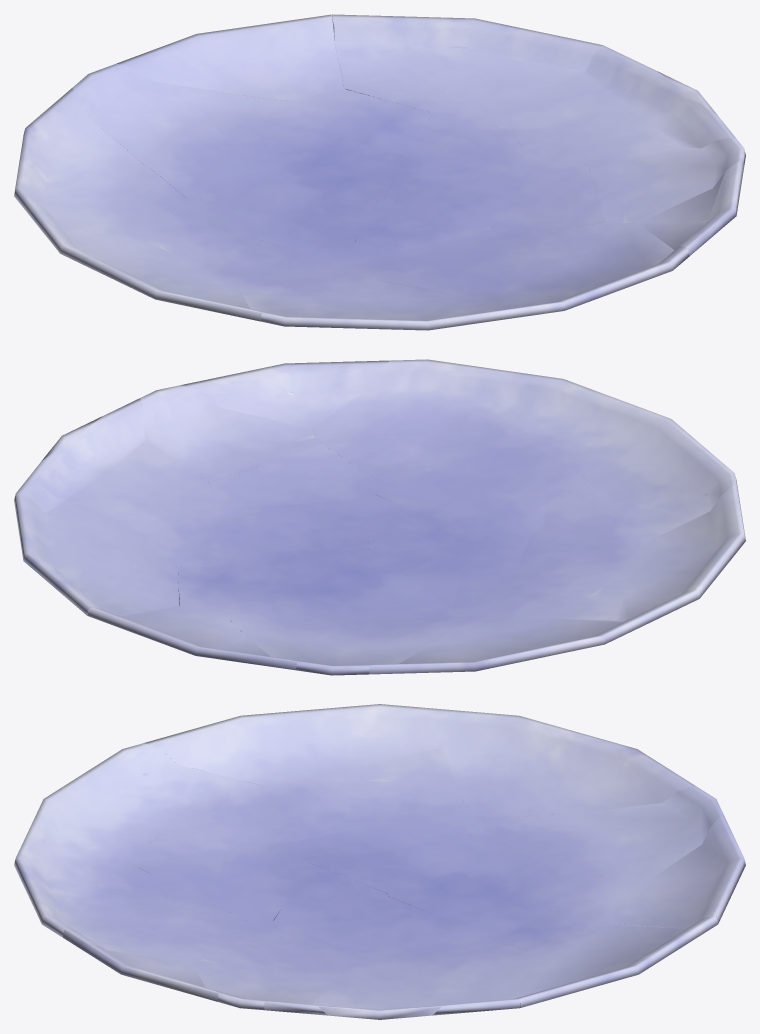
Rendered from plate.fbx.
The picture shows the model from 3 angles, top to bottom: view 1: azimuth 30°, elevation 25°; view 2: azimuth 150°, elevation 25°; view 3: azimuth 270°, elevation 25°; orthographic projection.
Parts seen in each view (by area): view 1: plate_cell.011, plate_cell.014, plate_cell.019, plate_cell.003, plate_cell.017, plate_cell.008, plate_cell.016, plate_cell.018, plate_cell.012, plate_cell.004, plate_cell.001, plate_cell.007 (+7 smaller); view 2: plate_cell.003, plate_cell.018, plate_cell.014, plate_cell.011, plate_cell.016, plate_cell.001, plate_cell.004, plate_cell.012, plate_cell.019, plate_cell.017, plate_cell.015, plate_cell.007 (+7 smaller); view 3: plate_cell.018, plate_cell.017, plate_cell.003, plate_cell.015, plate_cell.014, plate_cell.019, plate_cell.004, plate_cell.016, plate_cell.011, plate_cell.007, plate_cell.008, plate_cell.012 (+8 smaller).
Part boxes in pixels (bbox=[...]): plate_cell.011: bbox=[332, 14, 602, 112]; plate_cell.014: bbox=[199, 88, 431, 198]; plate_cell.019: bbox=[72, 63, 292, 197]; plate_cell.003: bbox=[464, 222, 689, 320]; plate_cell.017: bbox=[14, 88, 186, 230]; plate_cell.008: bbox=[117, 14, 343, 101]; plate_cell.016: bbox=[384, 111, 537, 224]; plate_cell.018: bbox=[237, 273, 494, 330]; plate_cell.012: bbox=[478, 73, 680, 164]; plate_cell.004: bbox=[85, 206, 343, 286]; plate_cell.001: bbox=[588, 138, 745, 223]; plate_cell.007: bbox=[338, 228, 507, 295]; plate_cell.003: bbox=[312, 359, 618, 483]; plate_cell.018: bbox=[544, 399, 737, 544]; plate_cell.014: bbox=[178, 549, 459, 619]; plate_cell.011: bbox=[14, 493, 179, 616]; plate_cell.016: bbox=[155, 498, 370, 567]; plate_cell.001: bbox=[140, 385, 322, 482]; plate_cell.004: bbox=[500, 525, 640, 619]; plate_cell.012: bbox=[48, 442, 214, 549]; plate_cell.019: bbox=[230, 615, 471, 675]; plate_cell.017: bbox=[369, 613, 651, 674]; plate_cell.015: bbox=[614, 484, 745, 621]; plate_cell.007: bbox=[375, 458, 546, 537]; plate_cell.018: bbox=[30, 743, 262, 863]; plate_cell.017: bbox=[440, 710, 695, 820]; plate_cell.003: bbox=[14, 828, 247, 961]; plate_cell.015: bbox=[144, 704, 449, 785]; plate_cell.014: bbox=[388, 827, 614, 949]; plate_cell.019: bbox=[480, 786, 723, 900]; plate_cell.004: bbox=[253, 749, 466, 845]; plate_cell.016: bbox=[283, 896, 528, 966]; plate_cell.011: bbox=[506, 916, 717, 1007]; plate_cell.007: bbox=[132, 842, 311, 921]; plate_cell.008: bbox=[614, 814, 745, 928]; plate_cell.012: bbox=[314, 964, 508, 1007].
Bounding box in the file's own units: 4.09 × 4.09 × 0.3734.
